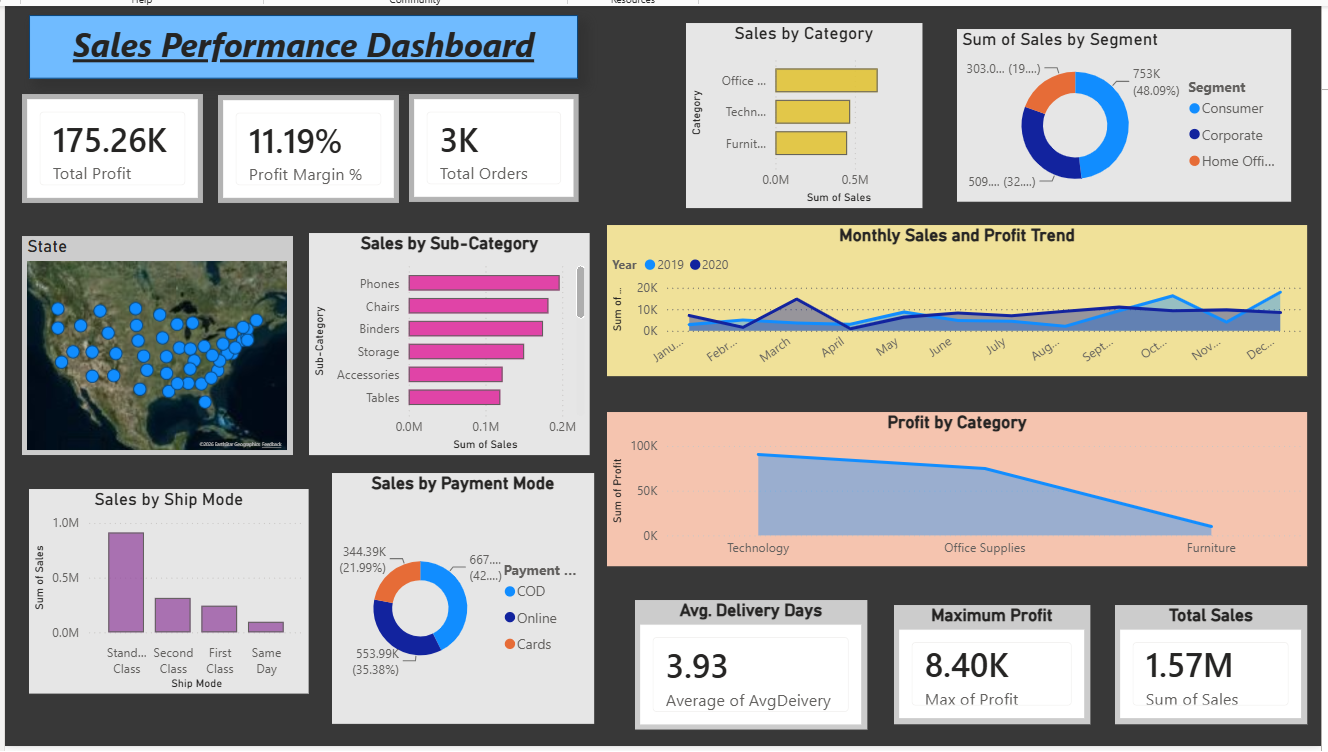

The page's visual inventory and layout, read from the dashboard file:
{"tool":"powerbi","page":{"name":"Page 1","canvas":[1280,720],"ordinal":0},"visuals":[{"type":"areaChart","title":"Monthly Sales and Profit Trend","fields":{"Category":["Sheet1.Order Date.Variation.Date Hierarchy.Month"],"Series":["Sheet1.Order Date.Variation.Date Hierarchy.Year"],"Y":["Sum(Sheet1.Profit)"]},"box":[585.5,213,680.9,146.9],"z":0},{"type":"donutChart","title":"Sales by Payment Mode","fields":{"Category":["Sheet1.Payment Mode"],"Y":["Sum(Sheet1.Sales)"]},"box":[318.1,454.2,254.8,244.1],"z":2000},{"type":"barChart","title":"Sales by Sub-Category","fields":{"Category":["Sheet1.Sub-Category"],"Y":["Sum(Sheet1.Sales)"]},"box":[295.7,220.8,273.3,215.9],"z":3000},{"type":"barChart","title":" Sales by Category","fields":{"Category":["Sheet1.Category"],"Y":["Sum(Sheet1.Sales)"]},"box":[662.4,16.5,229.5,179.9],"z":4000},{"type":"columnChart","title":"Sales by Ship Mode","fields":{"Category":["Sheet1.Ship Mode"],"Y":["Sum(Sheet1.Sales)"]},"box":[23.3,469.8,272.3,199.4],"z":5000},{"type":"donutChart","fields":{"Category":["Sheet1.Segment"],"Y":["Sum(Sheet1.Sales)"]},"box":[926,22.4,324.9,168.3],"z":6000},{"type":"cardVisual","title":"Total Sales","fields":{"Data":["Sum(Sheet1.Sales)"]},"box":[1079.6,582.6,186.7,115.7],"z":7000},{"type":"cardVisual","title":"Maximum Profit","fields":{"Data":["Max(Sheet1.Profit)"]},"box":[864.7,582.6,190.6,115.7],"z":8000},{"type":"cardVisual","title":"Avg. Delivery Days","fields":{"Data":["Avg(Sheet1.AvgDeivery)"]},"box":[612.8,577.8,225.7,126.4],"z":9000},{"type":"azureMap","fields":{"Category":["Sheet1.State"]},"box":[16.5,223.7,262.6,213],"z":10000},{"type":"textbox","box":[23.3,8.8,534,62.2],"z":11000},{"type":"cardVisual","fields":{"Data":["Sheet1.Total Profit"]},"box":[16.5,85.6,176,106],"z":11001},{"type":"cardVisual","fields":{"Data":["Sheet1.Total Orders"]},"box":[392.9,85.6,165.3,105],"z":11002},{"type":"cardVisual","fields":{"Data":["Sheet1.Profit Margin %"]},"box":[207.2,86.6,176,105],"z":11003},{"type":"areaChart","title":" Profit by Category","fields":{"Category":["Sheet1.Category"],"Y":["Sum(Sheet1.Profit)"]},"box":[585.5,394.9,681,150],"z":11004}]}

Visuals, with their boxes in screenshot pixels (x1, y1, x2, y2):
"Monthly Sales and Profit Trend" areaChart: (606,221,1303,372)
"Sales by Payment Mode" donutChart: (332,468,593,718)
"Sales by Sub-Category" barChart: (309,229,589,450)
" Sales by Category" barChart: (685,20,919,204)
"Sales by Ship Mode" columnChart: (31,484,309,688)
donutChart - Sheet1.Segment x Sum(Sheet1.Sales): (954,26,1287,199)
"Total Sales" cardVisual: (1112,600,1303,718)
"Maximum Profit" cardVisual: (892,600,1087,718)
"Avg. Delivery Days" cardVisual: (634,595,865,724)
azureMap - Sheet1.State: (24,232,292,450)
textbox: (31,12,577,76)
cardVisual - Sheet1.Total Profit: (24,91,204,199)
cardVisual - Sheet1.Total Orders: (409,91,578,198)
cardVisual - Sheet1.Profit Margin %: (219,92,399,199)
" Profit by Category" areaChart: (606,408,1303,561)
